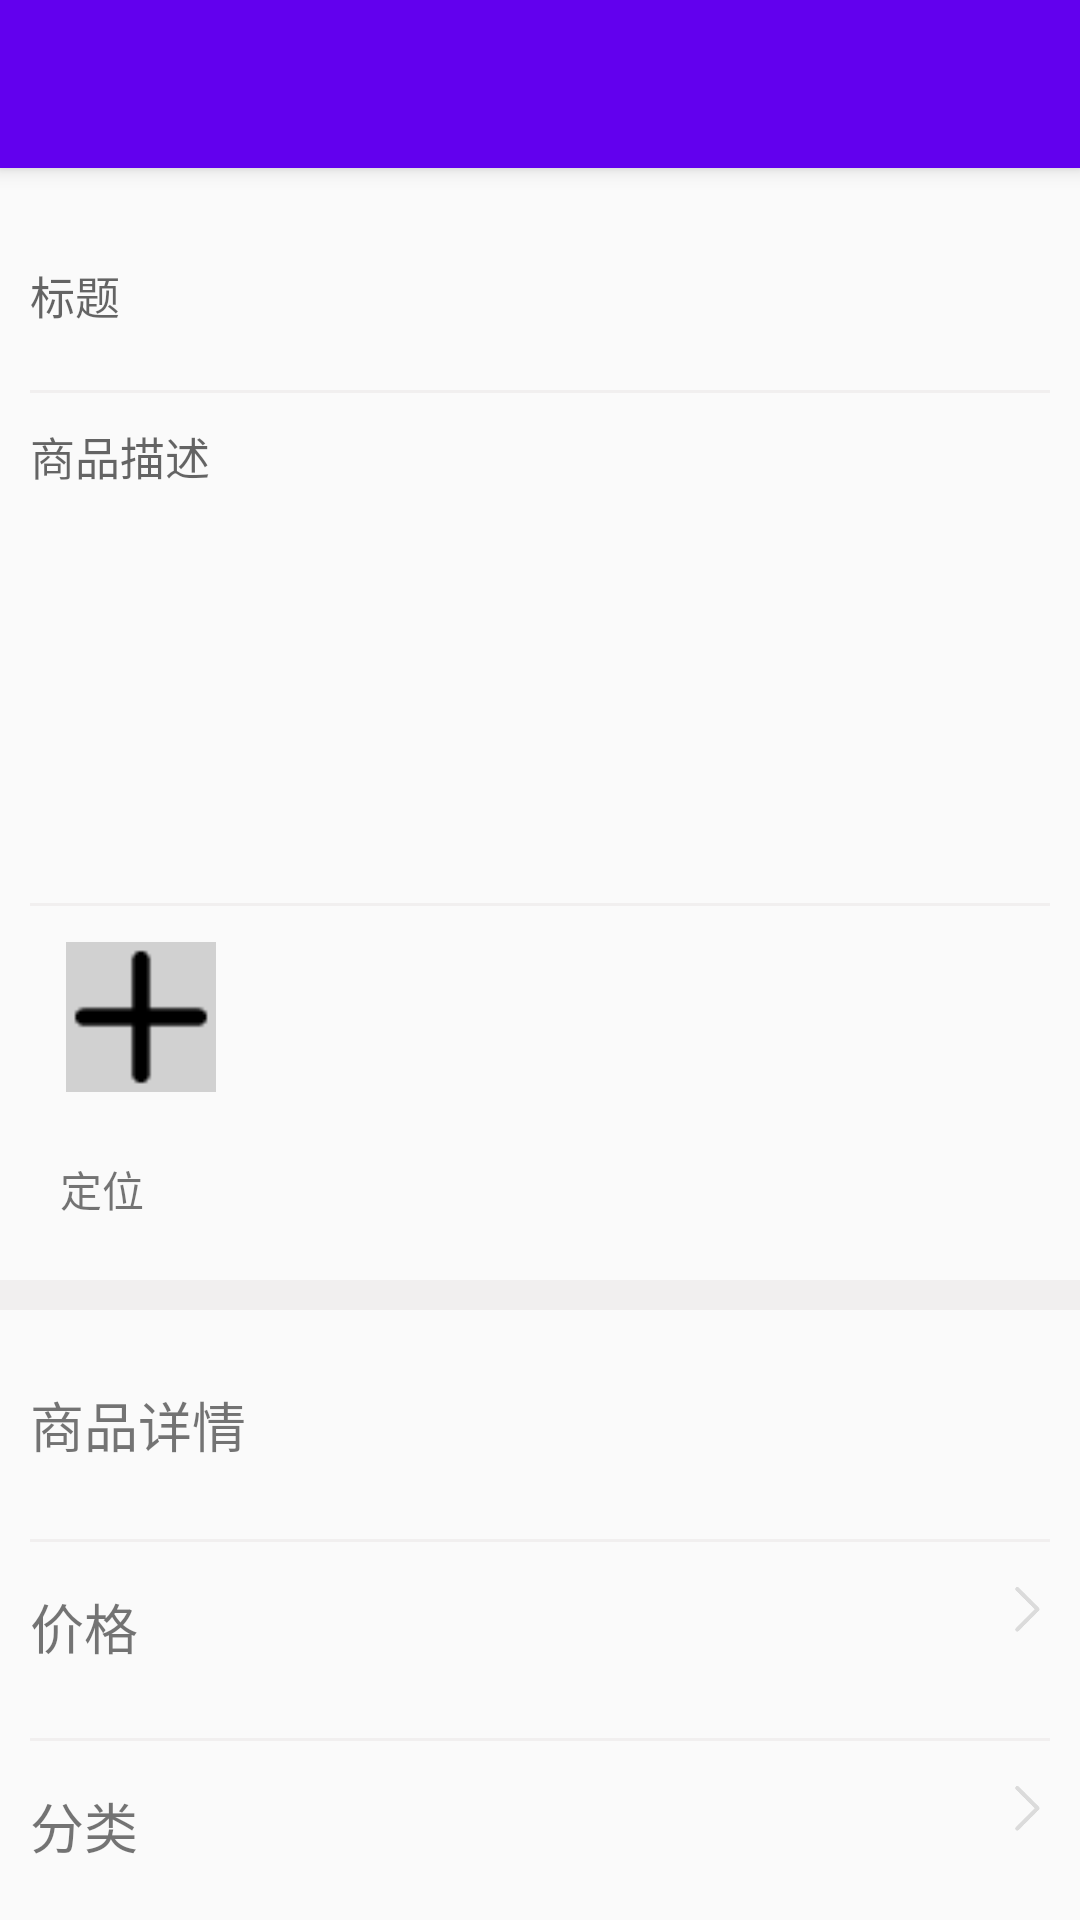

Locate icon controls on the screen. Image size 1080*1920, boxes as bbox(x1, y1, x2, y2).
add: bbox(66, 942, 216, 1092)
